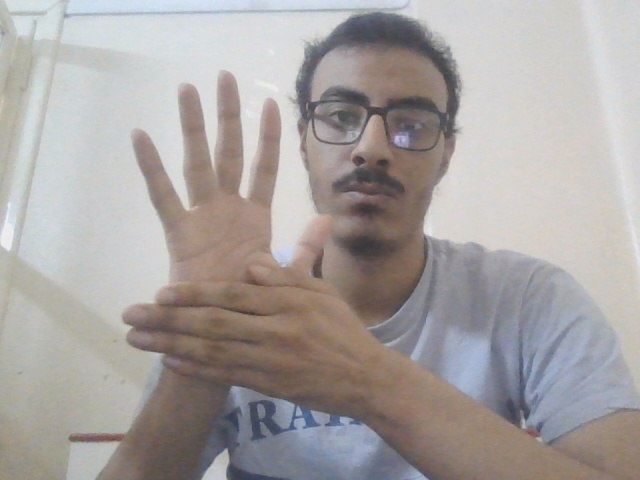Movie: (116, 66, 380, 430)
